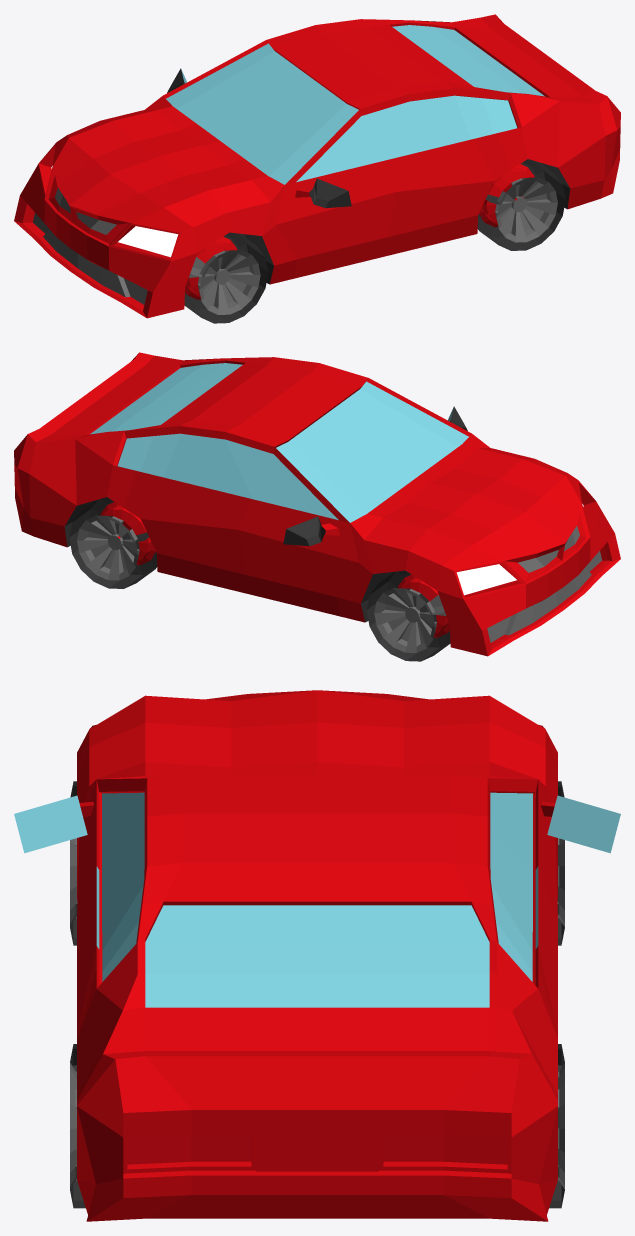
File: low_poly_car.glb
3 renders of one model, top to bottom at view 1: azimuth 30°, elevation 25°; view 2: azimuth 150°, elevation 25°; view 3: azimuth 270°, elevation 25°, orthographic. The views are drawn at different scales.
Parts seen in each view (by area): view 1: Cube_0; view 2: Cube_0; view 3: Cube_0.
Part boxes in pixels (box(x1,y1,x2,y2)): Cube_0: box(14, 14, 620, 323); Cube_0: box(14, 352, 620, 661); Cube_0: box(14, 690, 620, 1221).
Size of the model in its own units: 4.42 by 1.4 by 2.58.
